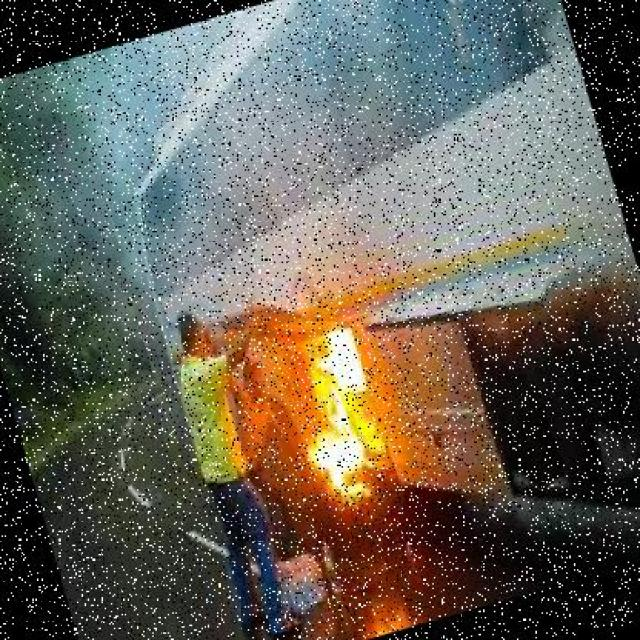fire: (248, 288, 428, 534)
